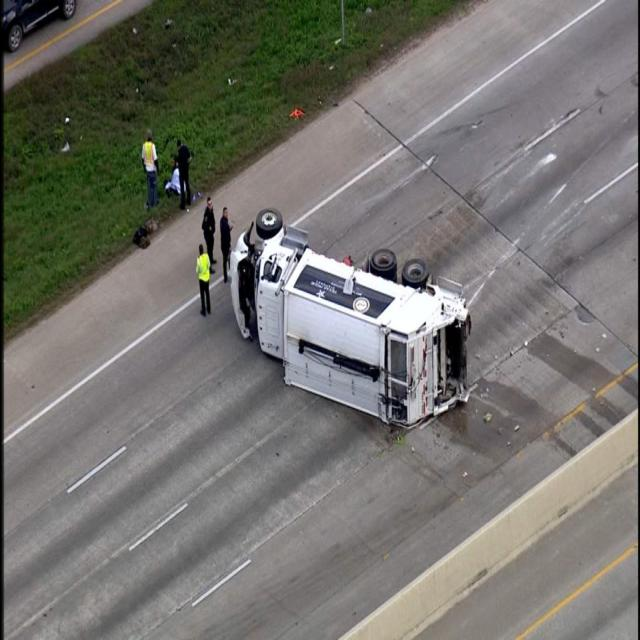accident: (226, 205, 474, 429)
